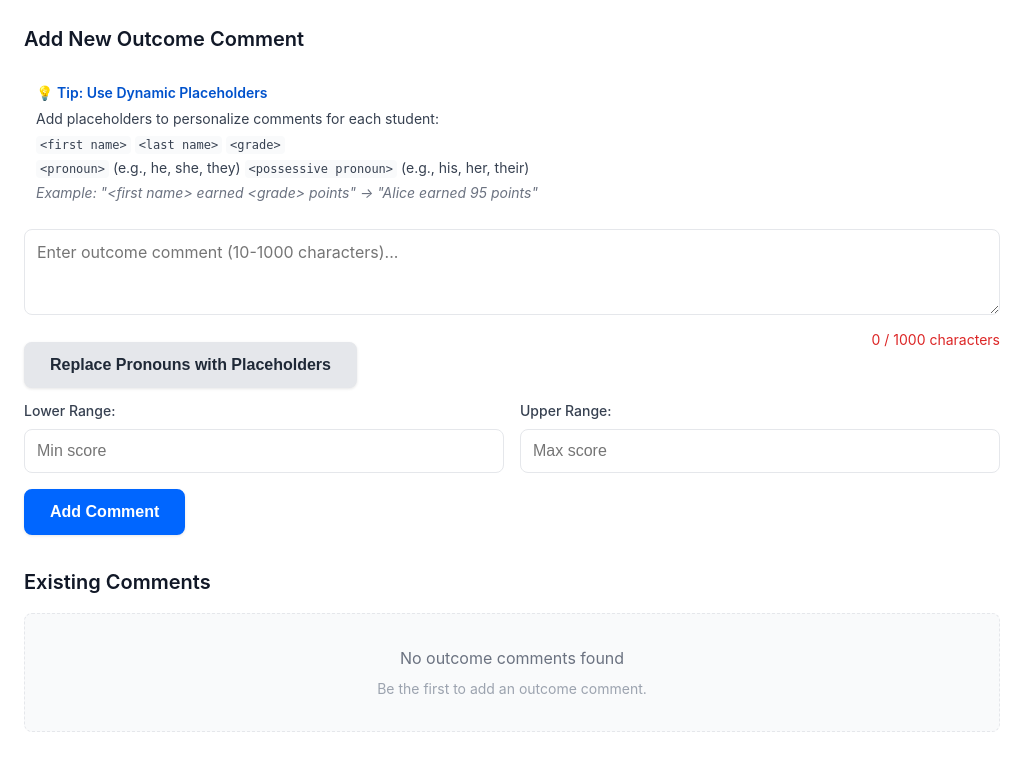
Test case: OutcomeCommentsModal - Replace Pronouns Button (Story 1) › Message Display and Clearing › should clear previous message when new replacement is performed
# First replacement
Type "He is great" into the text box named "Add new outcome comment" at (512,272), box top-left (24, 229), bottom-right (1000, 315)
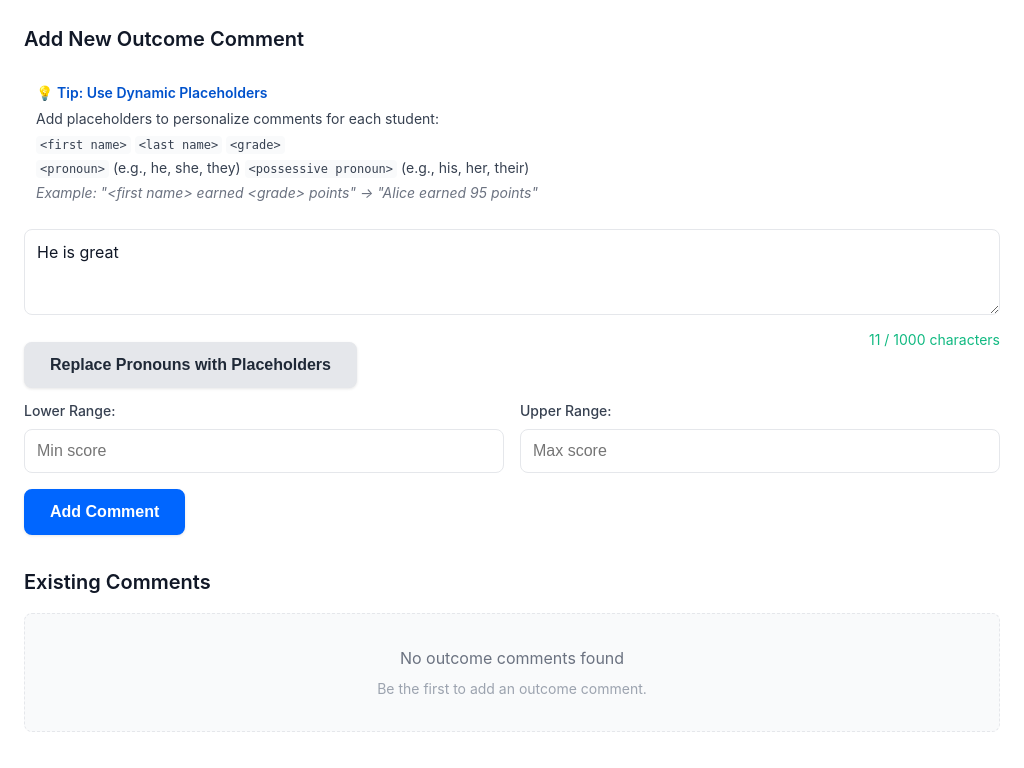
Click the button "Replace Pronouns with Placeholders" at (190,365), box top-left (24, 342), bottom-right (357, 388)
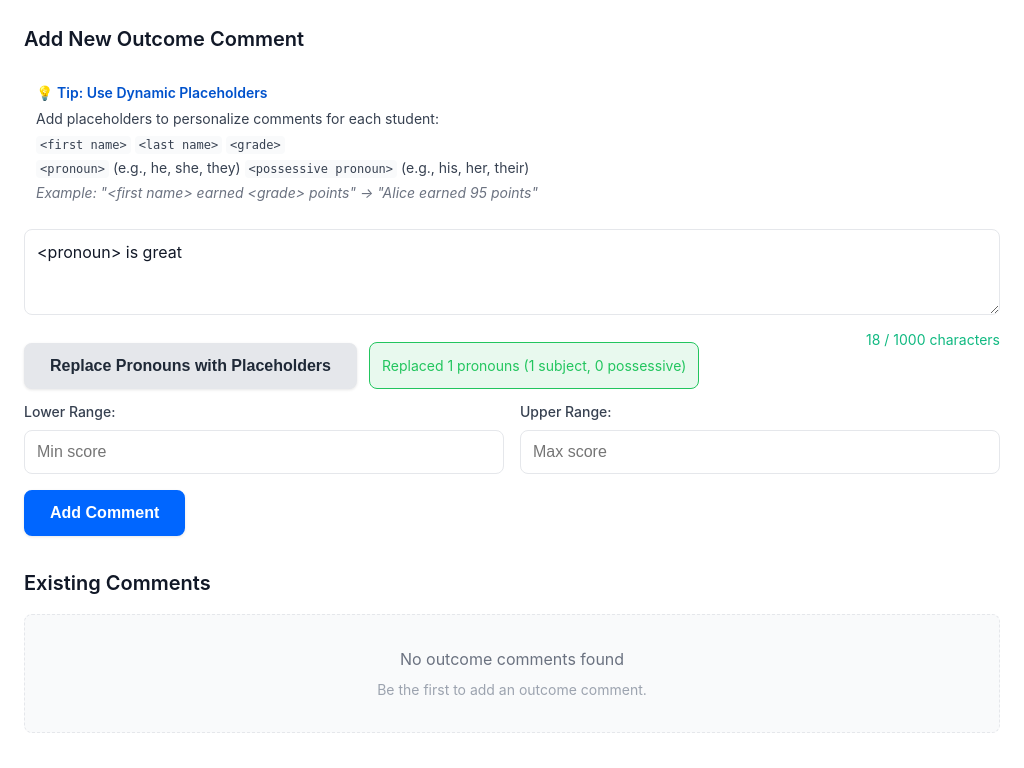
Expected: the text "Replaced 1 pronouns (1 subject, 0 possessive)" is shown, top-left (369, 342), bottom-right (699, 389)
# Clear textarea and do second replacement
Clear the text box named "Add new outcome comment" at (512,272), box top-left (24, 229), bottom-right (1000, 315)
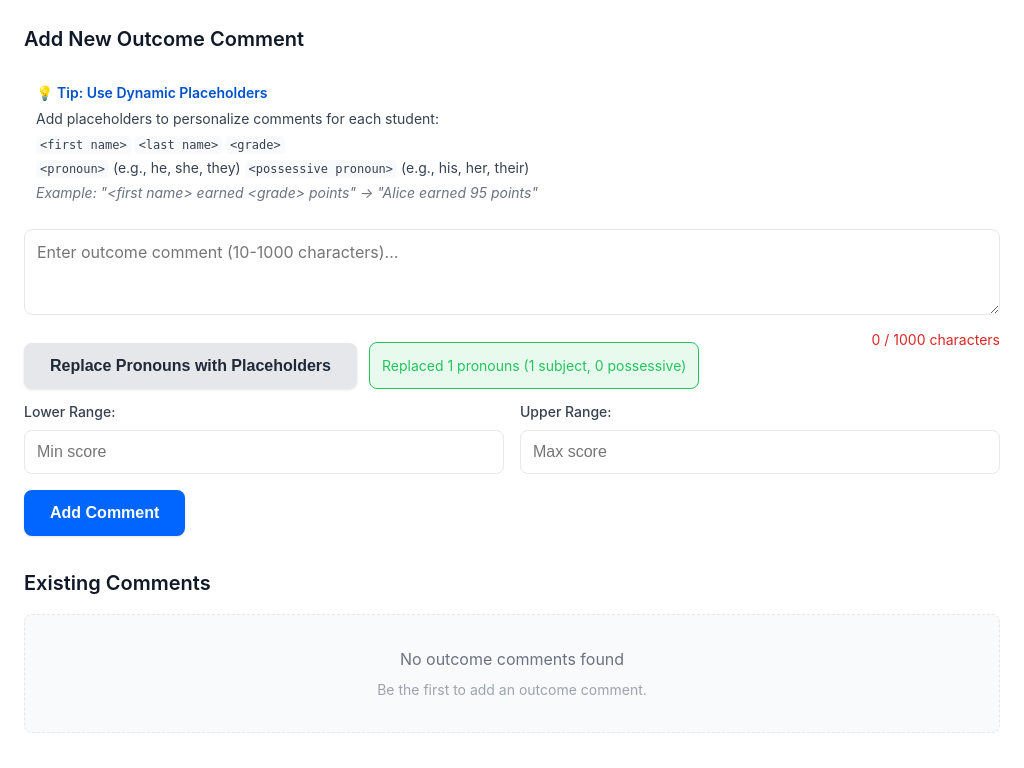
Click the button "Replace Pronouns with Placeholders" at (190,366), box top-left (24, 342), bottom-right (357, 388)
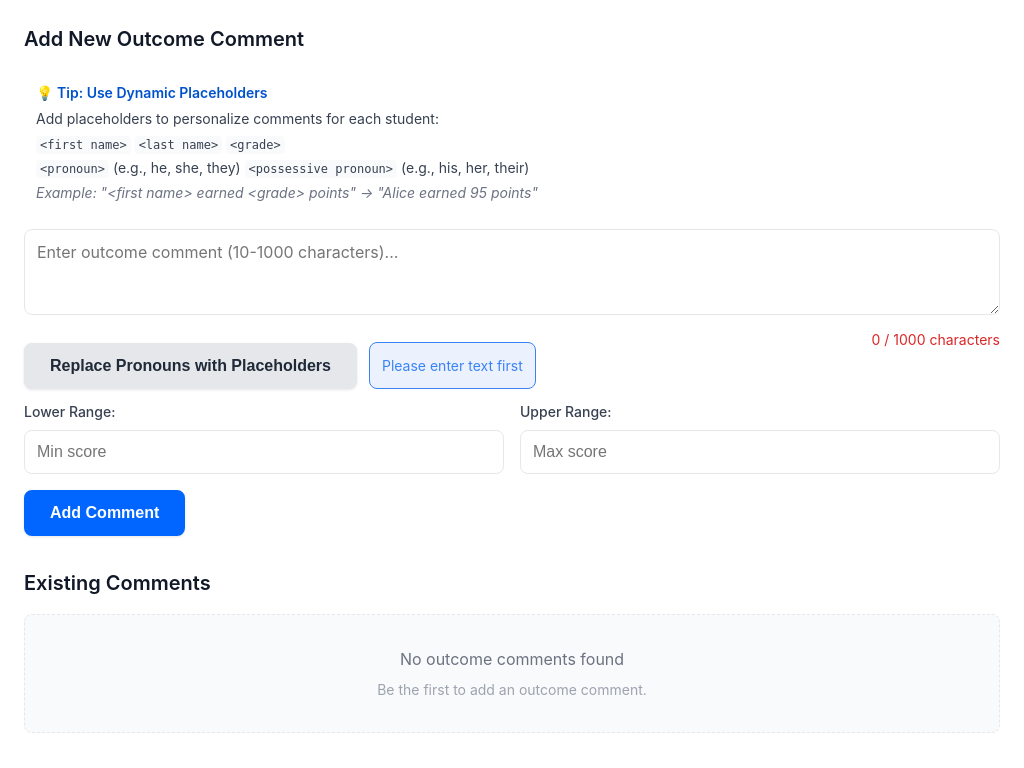
Expected: the text "Please enter text first" is shown, top-left (369, 342), bottom-right (536, 389)
Expected: the text "Replaced 1 pronouns" is gone
